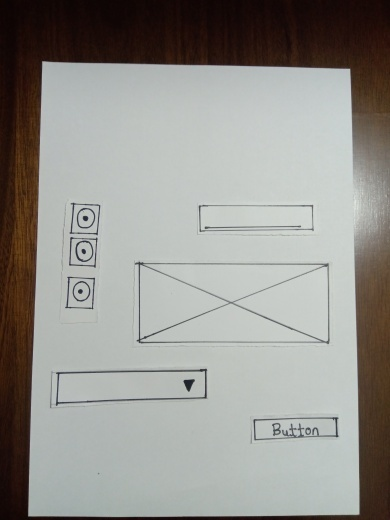button: (254, 418, 337, 441)
dropdown: (59, 371, 207, 402)
img: (138, 260, 330, 345)
radio: (73, 204, 99, 236), (69, 275, 95, 307), (69, 236, 95, 268)
text: (199, 204, 314, 230)
